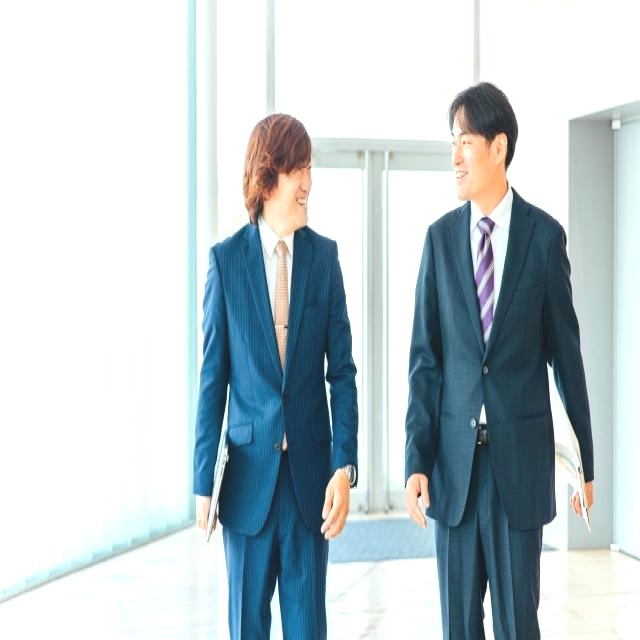Sin_Casco_Mascarrilla: (444, 84, 519, 199), (245, 116, 313, 231)
Sin_Chaleco: (420, 197, 560, 502), (212, 228, 347, 458)
